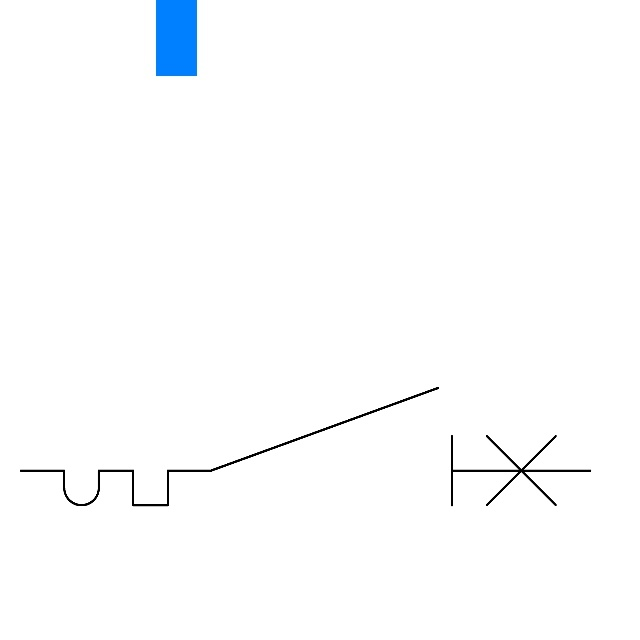interruptor_termomagnetico: (6, 373, 605, 520)
